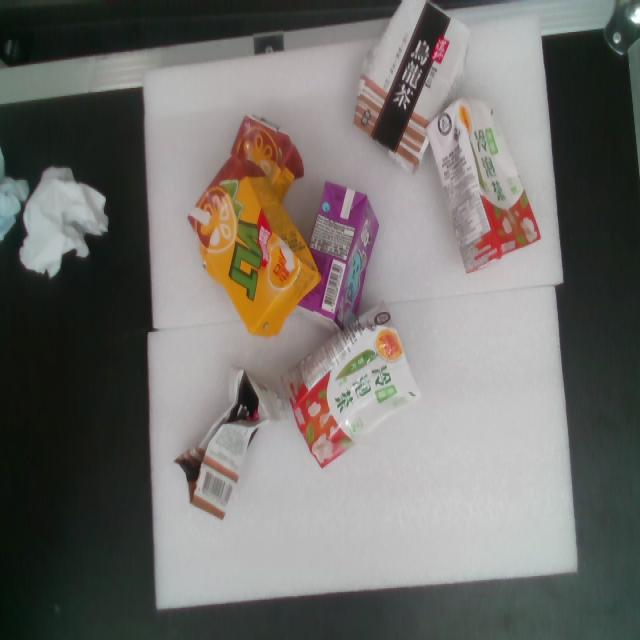juicebox: (144, 139, 350, 368), (249, 291, 453, 486), (398, 79, 560, 293), (140, 351, 305, 547), (323, 0, 488, 185), (284, 167, 399, 337)
